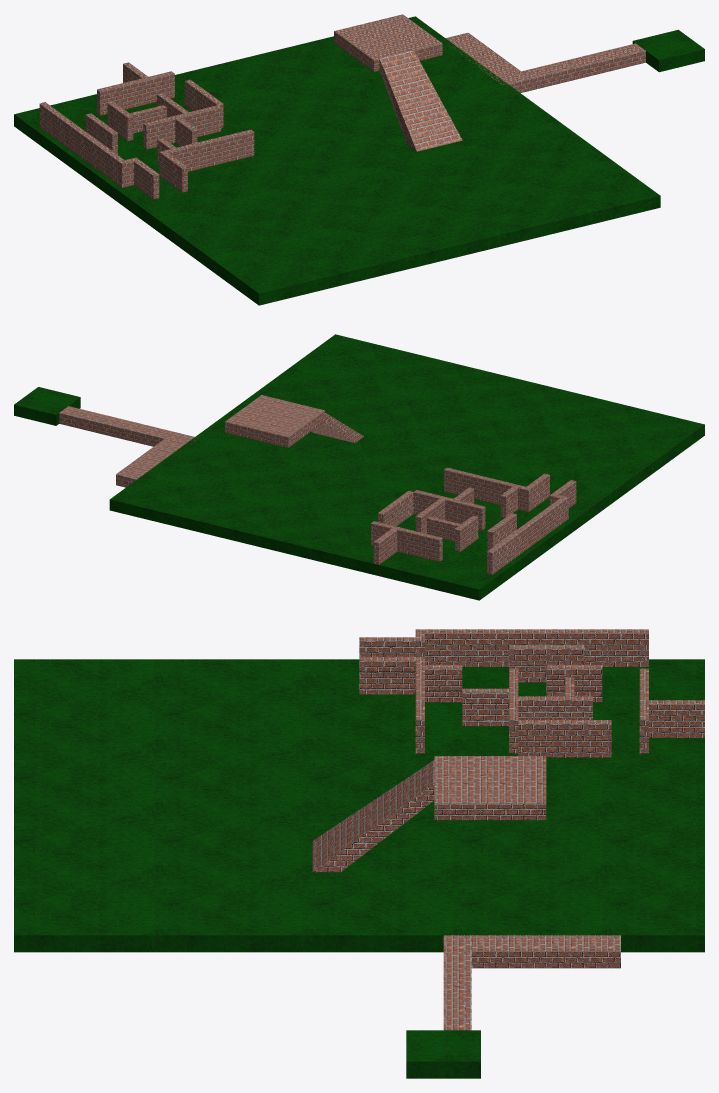
File: recastTest.obj
The picture shows the model from 3 angles, top to bottom: view 1: azimuth 30°, elevation 25°; view 2: azimuth 150°, elevation 25°; view 3: azimuth 270°, elevation 25°; orthographic projection. The views are drawn at different scales.
Visible parts, largest first — view 1: entity0_brush3, entity0_brush5, entity0_brush4, entity0_brush1, entity0_brush14, entity0_brush8, entity0_brush10, entity0_brush0, entity0_brush7, entity0_brush2, entity0_brush16, entity0_brush9 (+5 smaller); view 2: entity0_brush3, entity0_brush4, entity0_brush1, entity0_brush14, entity0_brush0, entity0_brush10, entity0_brush8, entity0_brush7, entity0_brush2, entity0_brush16, entity0_brush5, entity0_brush17 (+6 smaller); view 3: entity0_brush3, entity0_brush4, entity0_brush14, entity0_brush5, entity0_brush2, entity0_brush0, entity0_brush16, entity0_brush1, entity0_brush21, entity0_brush17, entity0_brush18, entity0_brush12 (+7 smaller).
Part boxes in pixels (x1,y1,x2,y2): entity0_brush3: [14, 16, 660, 305]; entity0_brush5: [379, 50, 462, 151]; entity0_brush4: [334, 14, 442, 71]; entity0_brush1: [493, 43, 645, 92]; entity0_brush14: [39, 102, 124, 185]; entity0_brush8: [177, 129, 254, 171]; entity0_brush10: [97, 71, 174, 115]; entity0_brush0: [632, 29, 704, 72]; entity0_brush7: [143, 105, 221, 149]; entity0_brush2: [445, 32, 520, 77]; entity0_brush16: [184, 79, 223, 128]; entity0_brush9: [107, 101, 133, 141]; entity0_brush3: [109, 334, 704, 600]; entity0_brush4: [225, 395, 324, 447]; entity0_brush1: [59, 406, 198, 446]; entity0_brush14: [487, 498, 565, 574]; entity0_brush0: [14, 387, 80, 425]; entity0_brush10: [371, 521, 442, 561]; entity0_brush8: [444, 467, 515, 505]; entity0_brush7: [413, 490, 485, 530]; entity0_brush2: [116, 438, 185, 487]; entity0_brush16: [378, 490, 413, 526]; entity0_brush5: [311, 412, 364, 443]; entity0_brush17: [373, 528, 397, 564]; entity0_brush3: [14, 659, 704, 952]; entity0_brush4: [434, 756, 546, 820]; entity0_brush14: [425, 629, 648, 666]; entity0_brush5: [312, 760, 434, 872]; entity0_brush2: [471, 935, 620, 968]; entity0_brush0: [406, 1030, 480, 1078]; entity0_brush16: [518, 720, 611, 757]; entity0_brush1: [443, 935, 471, 1030]; entity0_brush21: [359, 657, 415, 694]; entity0_brush17: [649, 700, 704, 737]; entity0_brush18: [509, 645, 583, 682]; entity0_brush12: [462, 688, 508, 726].
Size of the model in its own units: 1632 by 192 by 1184.
